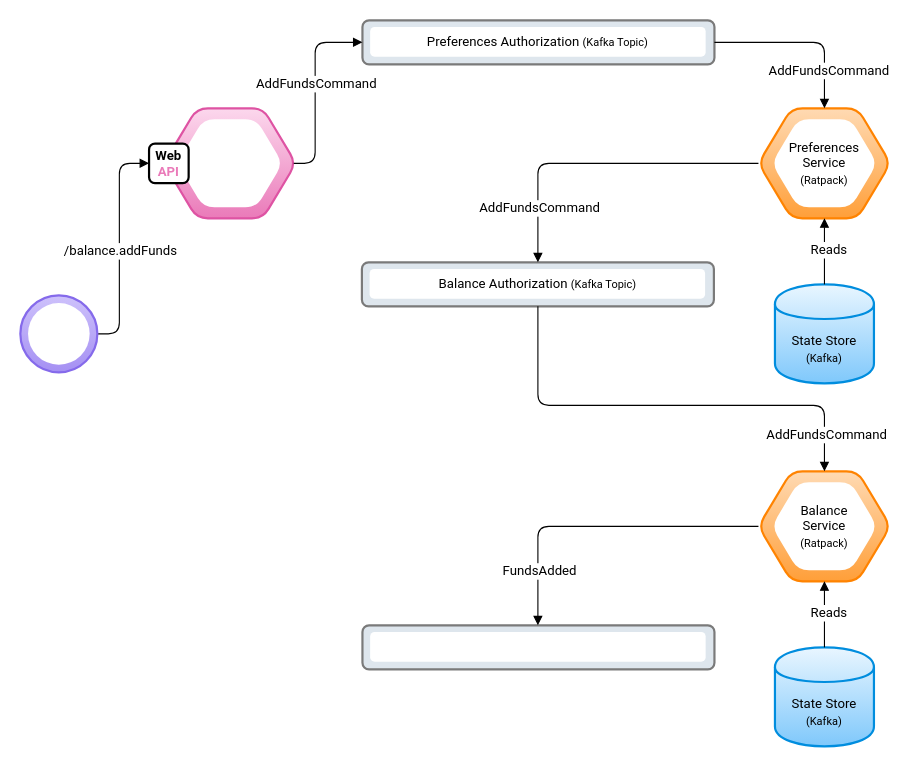
Image size: 910x776. Some labels were removed from this diagram. The shapes that lost their labels are listed below. From the top down, each one's centre as x and y in pixels, then its label:
At (229,163): "Command Service (Ratpack)".
At (58,333): "Client".
At (537,646): "Balance (Kafka Topic)".
